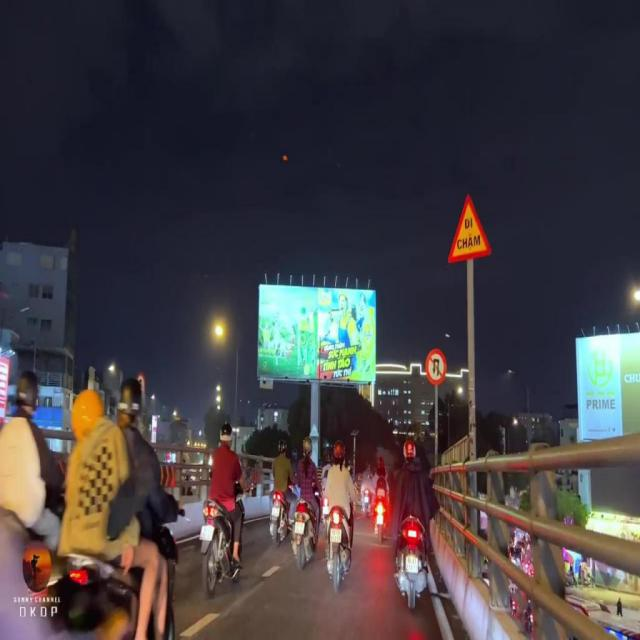cam_quay_dau_xe: (426, 349, 447, 386)
di_cham: (448, 193, 492, 264)
